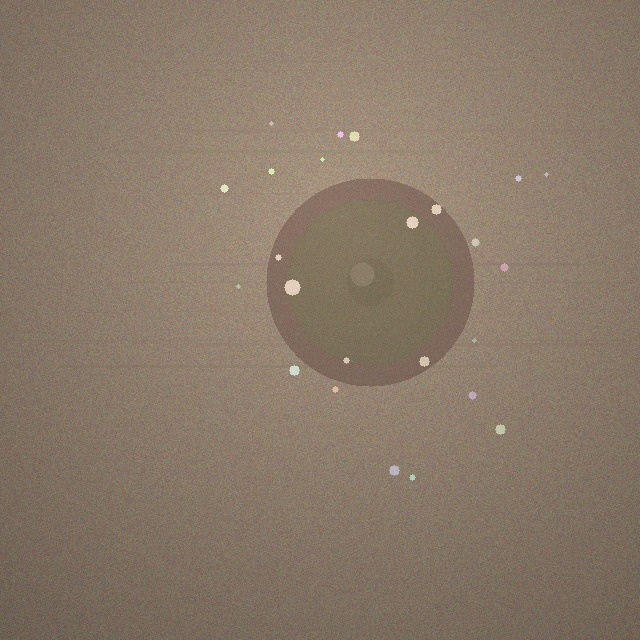overburn: (266, 178, 474, 386)
